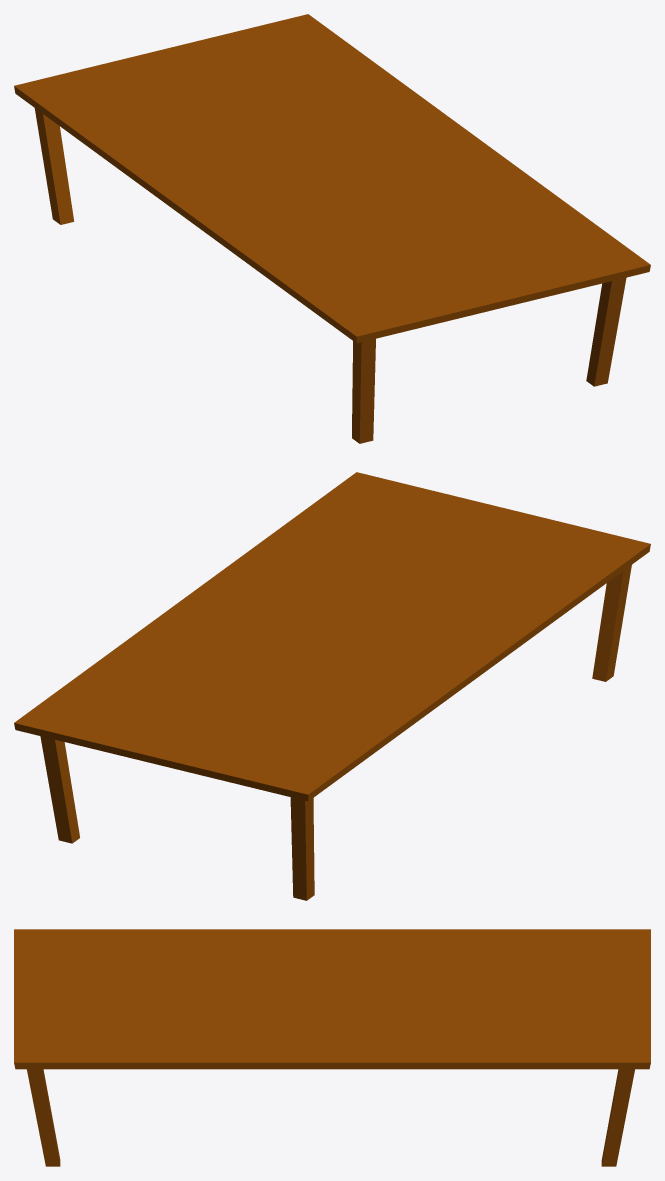
Rendered from mesaCafe.fbx.
The picture shows the model from 3 angles, top to bottom: view 1: azimuth 30°, elevation 25°; view 2: azimuth 150°, elevation 25°; view 3: azimuth 270°, elevation 25°; orthographic projection. The views are drawn at different scales.
Parts seen in each view (by area): view 1: mesa_geo; view 2: mesa_geo; view 3: mesa_geo.
Part boxes in pixels (x1=…): mesa_geo: x1=14, y1=14, x2=650, y2=443; mesa_geo: x1=14, y1=472, x2=650, y2=900; mesa_geo: x1=14, y1=929, x2=650, y2=1166.
Bounding box in the file's own units: 84.55 × 34.25 × 171.
